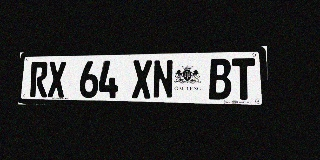4: (99, 60, 118, 98)
6: (79, 61, 99, 98)
B: (209, 58, 231, 100)
N: (153, 59, 173, 99)
R: (30, 62, 48, 97)
T: (232, 58, 256, 100)
X: (132, 60, 152, 99), (48, 61, 66, 98)
